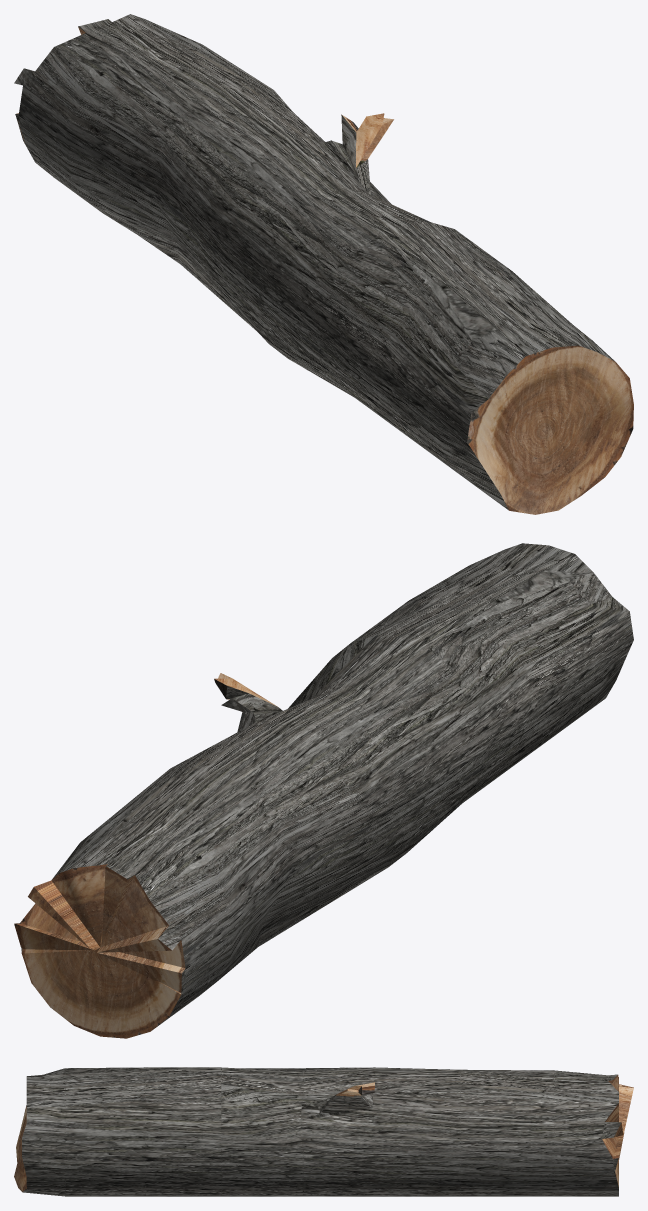
File: Tronco.glb
3 renders of one model, top to bottom at view 1: azimuth 30°, elevation 25°; view 2: azimuth 150°, elevation 25°; view 3: azimuth 270°, elevation 25°, orthographic. The views are drawn at different scales.
Visible parts, largest first — view 1: Object_2, Object_3; view 2: Object_2, Object_3; view 3: Object_2, Object_3.
Part boxes in pixels (x1,y1,x2,y2): Object_2: [14, 14, 614, 510]; Object_3: [16, 27, 633, 514]; Object_2: [21, 543, 633, 1030]; Object_3: [14, 673, 277, 1038]; Object_2: [22, 1067, 621, 1196]; Object_3: [14, 1075, 633, 1191].
Size of the model in its own units: 3.67 by 3.96 by 17.34.
2 materials, 2 textured.
